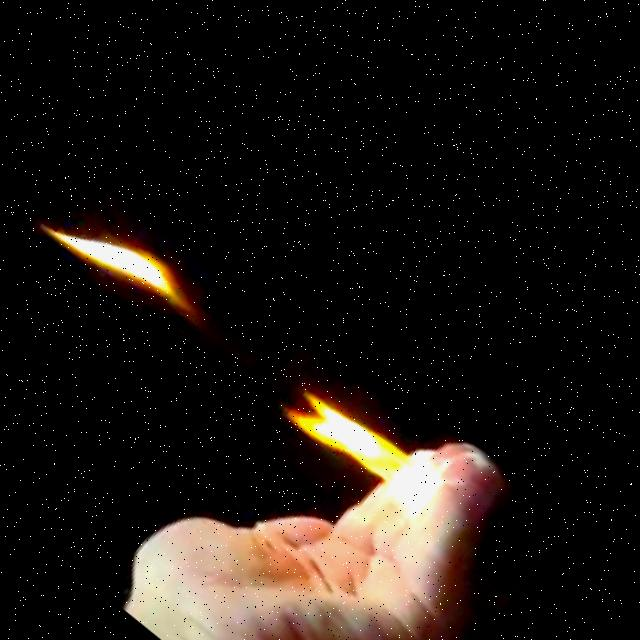Fire: (271, 357, 462, 522), (45, 188, 209, 329)
